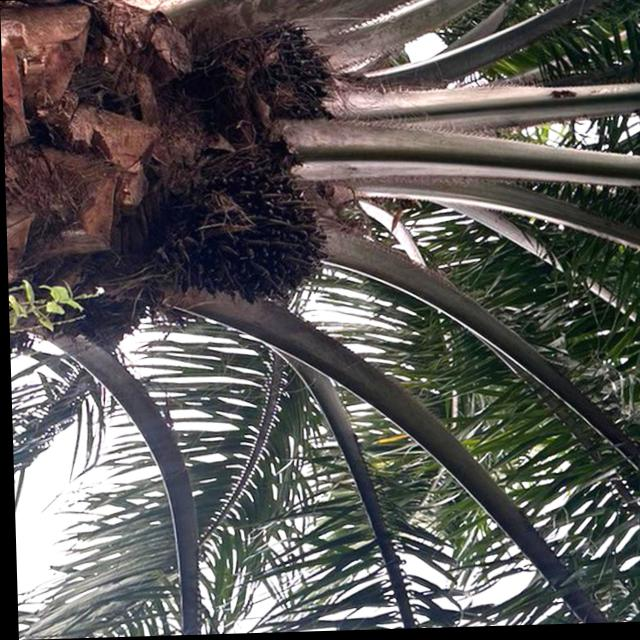ripe: (151, 133, 347, 323)
